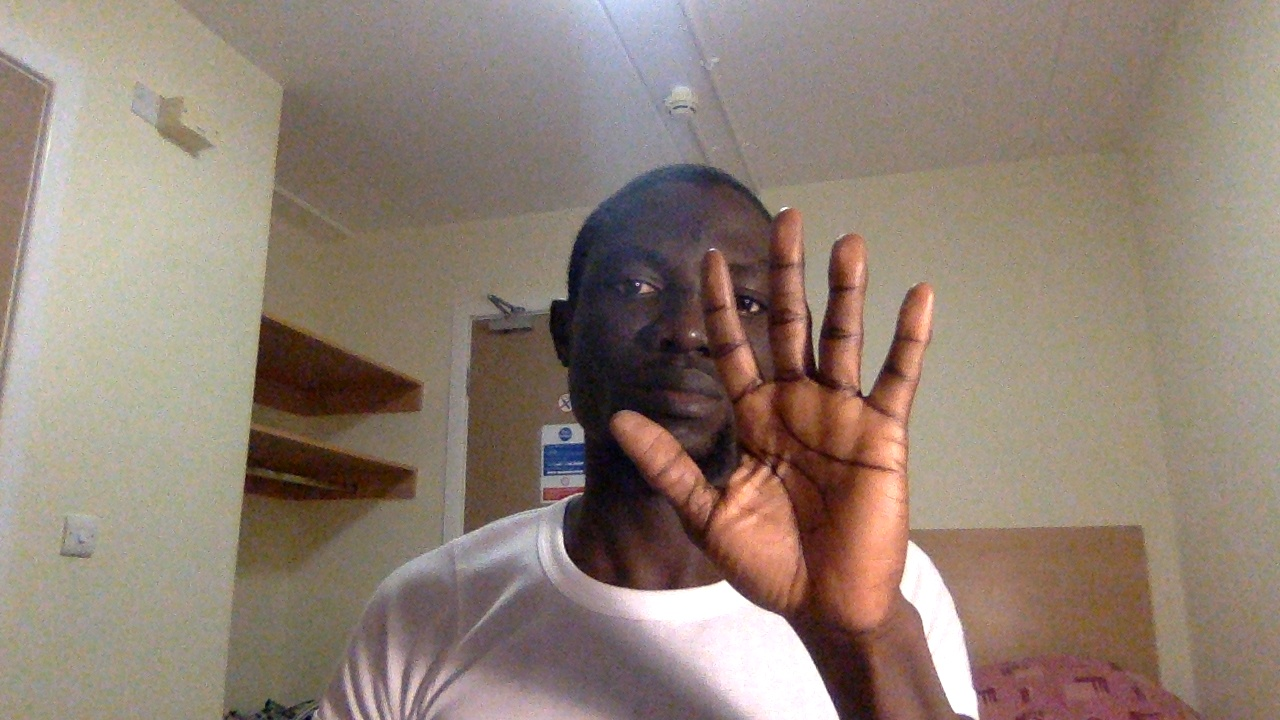Hello: (604, 202, 942, 646)
